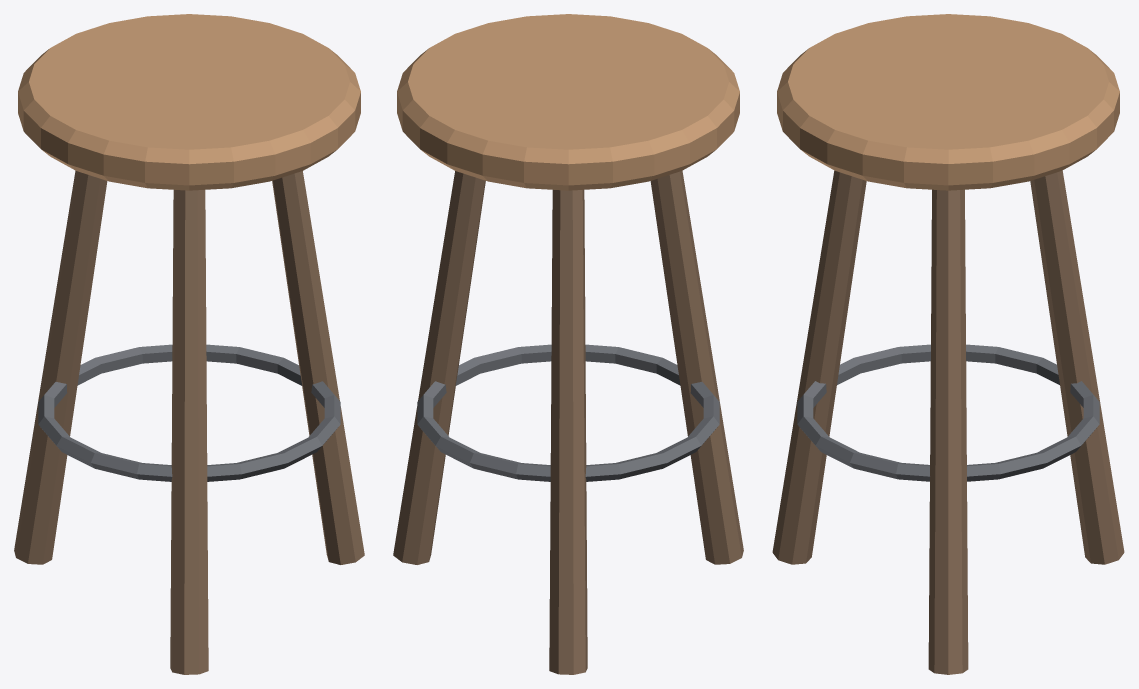
Rendered from Garage_Stool.glb.
3 views of the same model, side by side, from view 1: azimuth 30°, elevation 25°; view 2: azimuth 150°, elevation 25°; view 3: azimuth 270°, elevation 25° (orthographic).
Visible parts, largest first — view 1: Garage_Stool; view 2: Garage_Stool; view 3: Garage_Stool.
Part boxes in pixels (bbox=[...]): Garage_Stool: bbox=[14, 14, 364, 674]; Garage_Stool: bbox=[393, 14, 743, 674]; Garage_Stool: bbox=[772, 14, 1124, 674].
Size of the model in its own units: 0.4117 by 0.6284 by 0.39.
